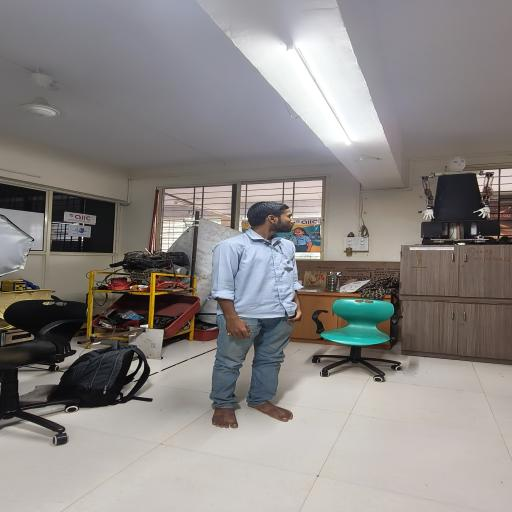survivor: (206, 201, 304, 429)
